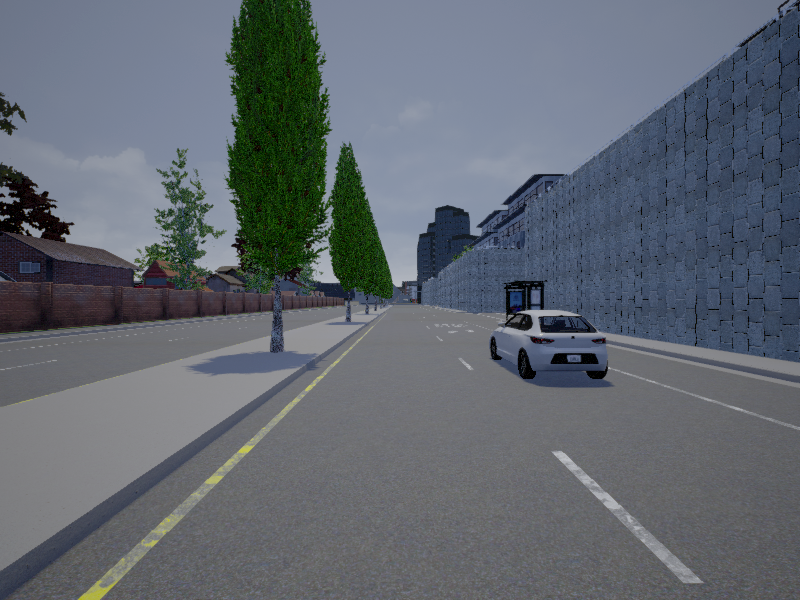Benign: (490, 309, 609, 380)
